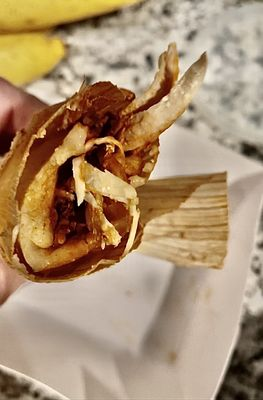pasta: (0, 0, 147, 33)
soup: (0, 46, 212, 280)
